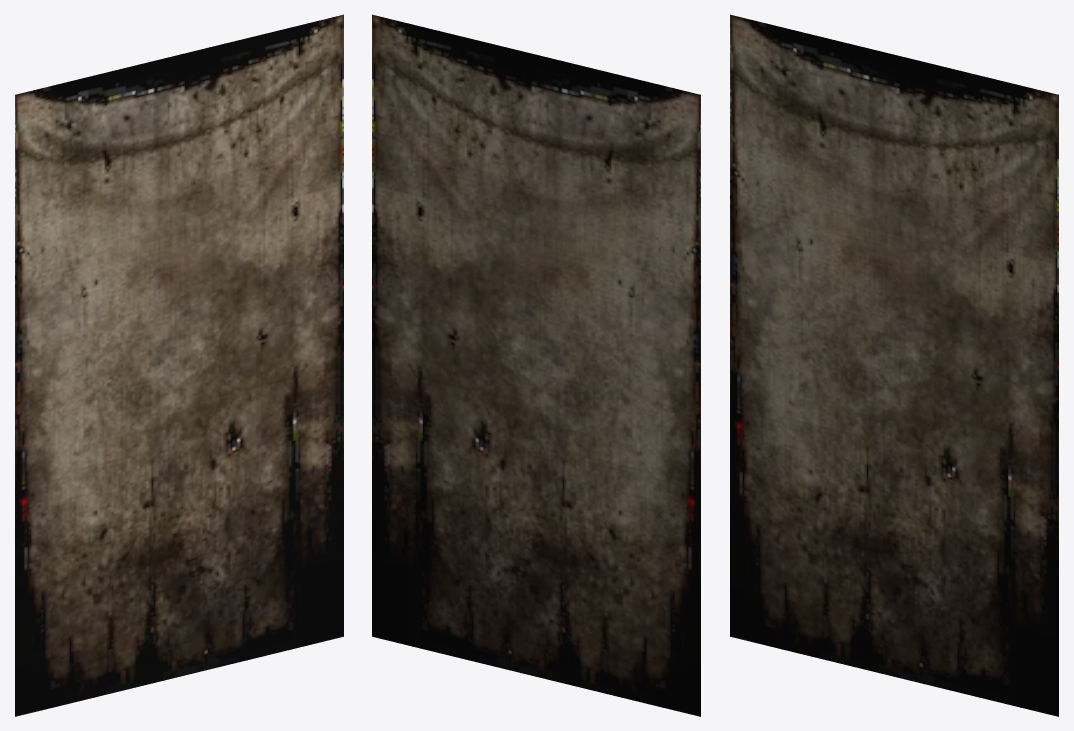
The model's file is o_mdl_env_hangingRagsB-transformed.glb.
3 renders of one model, left to right at view 1: azimuth 30°, elevation 25°; view 2: azimuth 150°, elevation 25°; view 3: azimuth 330°, elevation 25°, orthographic.
Parts seen in each view (by area): view 1: default; view 2: default; view 3: default.
Part boxes in pixels (<box>): default: <box>15,14,343,716</box>; default: <box>372,14,700,716</box>; default: <box>730,14,1058,716</box>.
Bounding box in the file's own units: 1.11 × 2 × 0.00488.
Materials: 1 (1 with a texture image).
